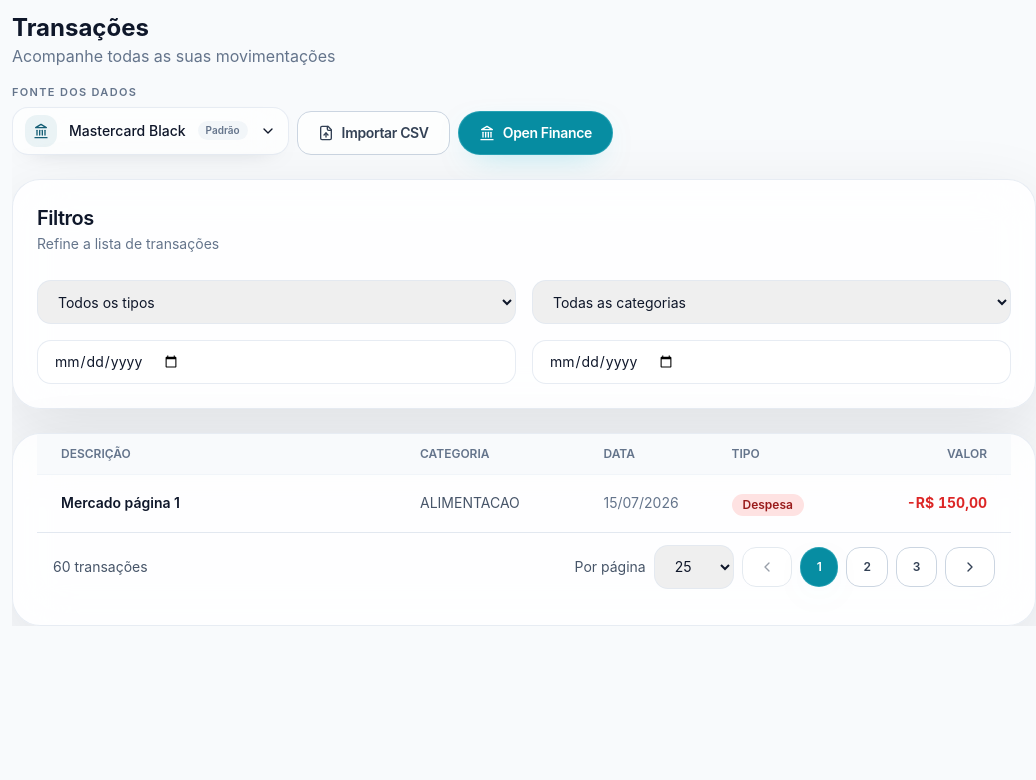
Scenario: TransactionsPage › envia página e tamanho para a API e navega para a próxima página
Expected: the text "Mercado página 1" is shown, [61,494,180,511]
Expected: the text "60 transações" is shown, [53,556,148,576]
Click the button named "Próxima página" at (970, 566), box [945,546,995,586]
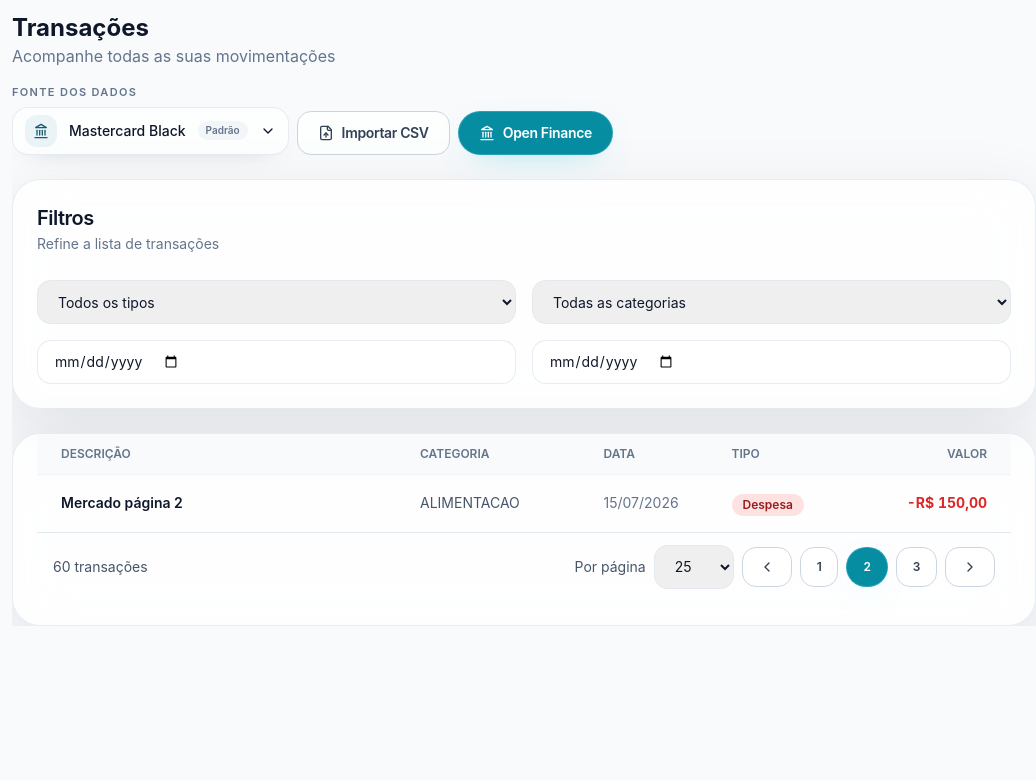
Expected: the text "Mercado página 2" is shown, [61,494,183,511]
